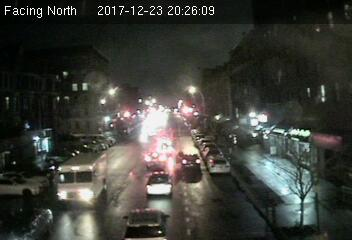car: (122, 204, 172, 240), (144, 170, 174, 196), (179, 151, 203, 170), (142, 151, 167, 168), (207, 155, 230, 172)
truck: (56, 152, 109, 204)
